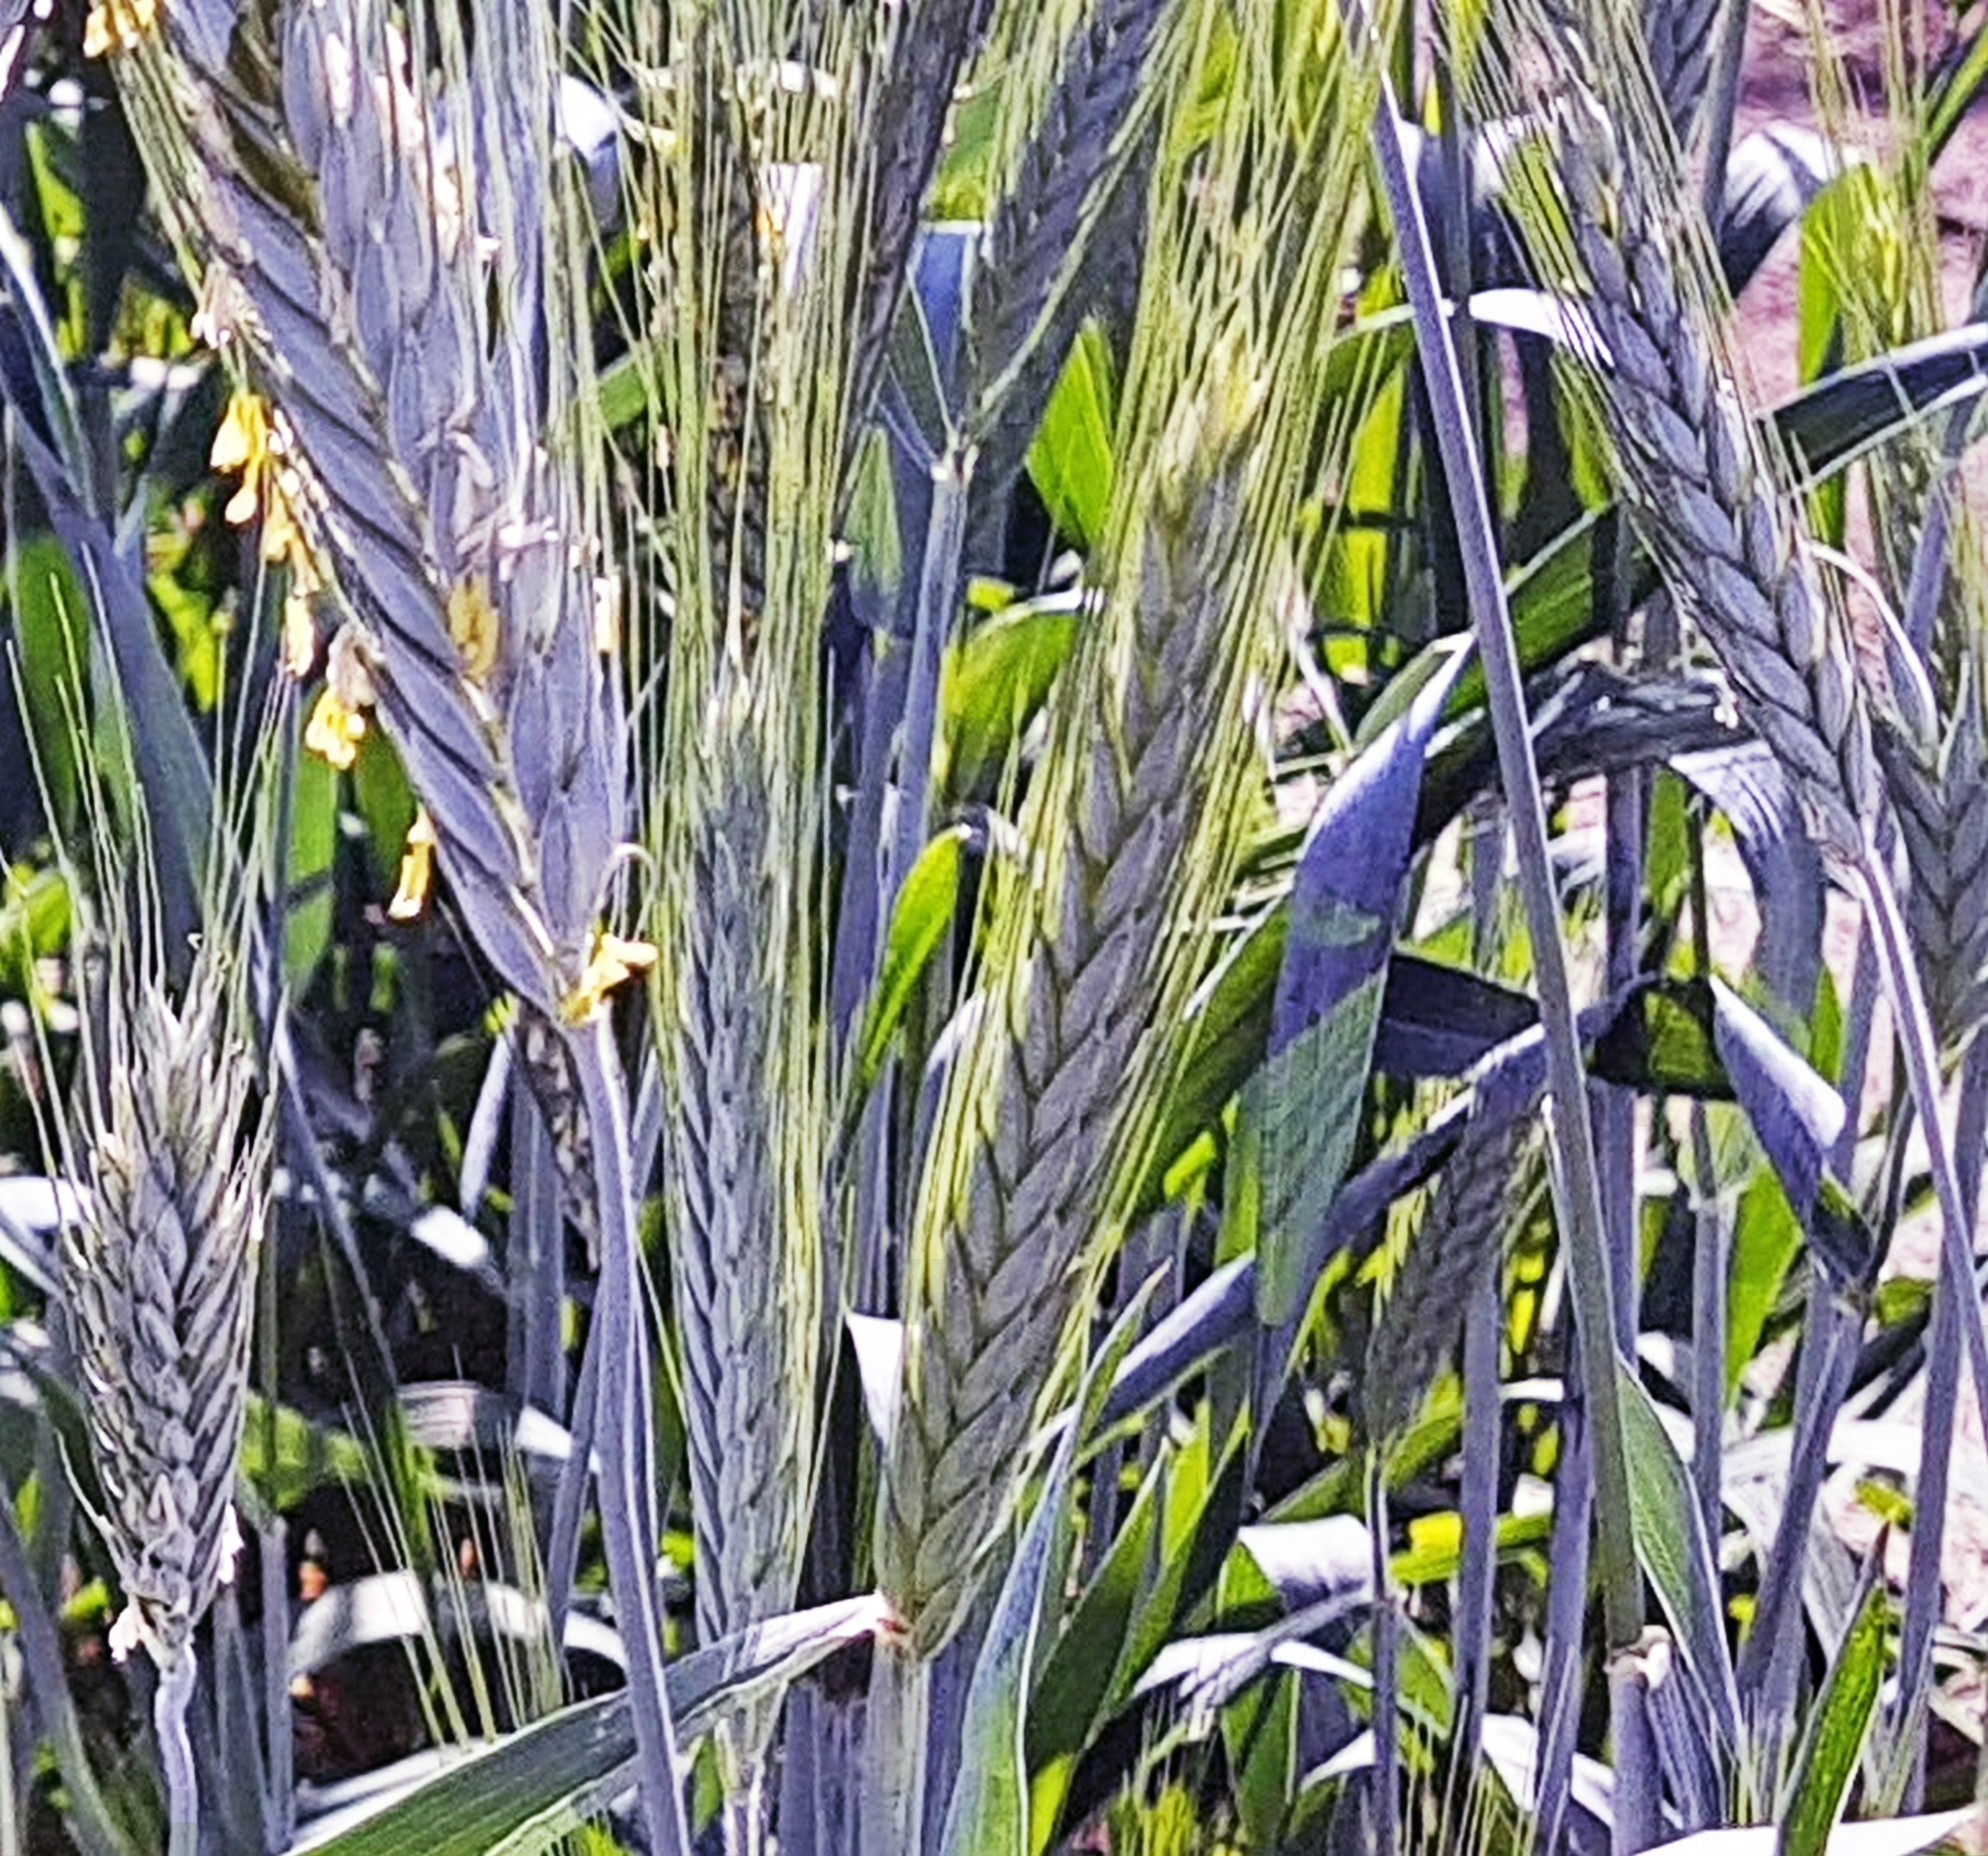Healthy Wheat: (874, 401, 1269, 1647), (1506, 70, 1915, 813), (63, 1033, 307, 1610)
